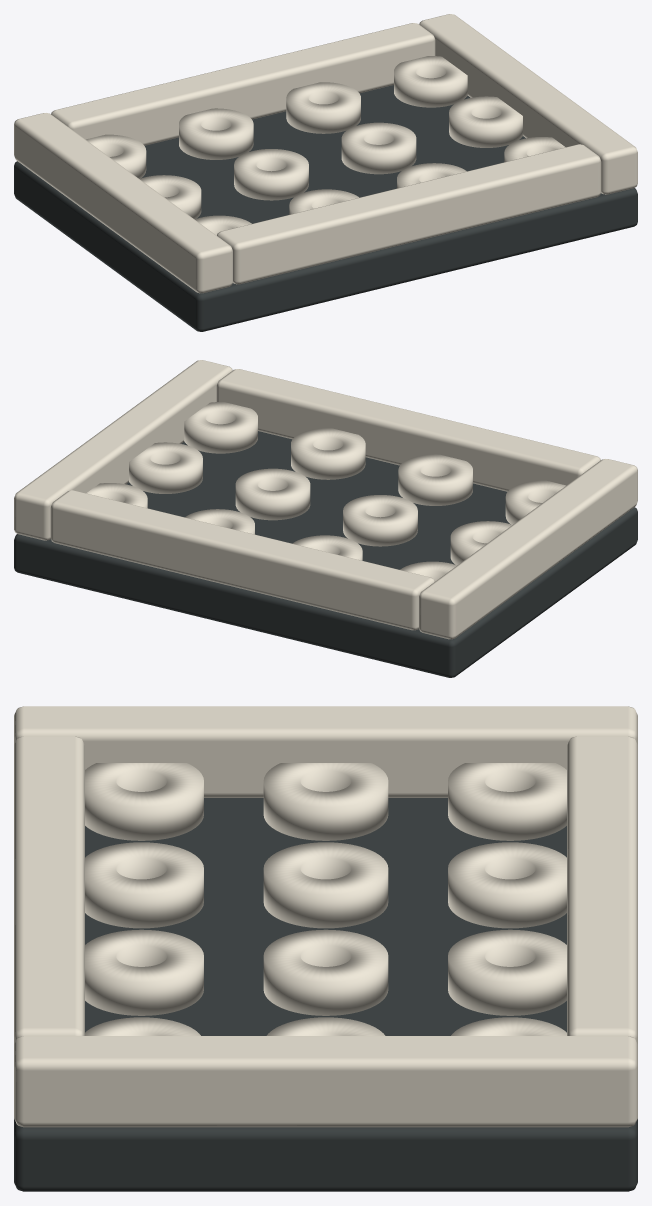
File: coffee-roastery-and-cupping-room-coffee-roastery-and-c-eeffd55a__32222.glb
The picture shows the model from 3 angles, top to bottom: view 1: azimuth 30°, elevation 25°; view 2: azimuth 150°, elevation 25°; view 3: azimuth 270°, elevation 25°; orthographic projection. The views are drawn at different scales.
Visible parts, largest first — view 1: coffee-roastery-and-cupping-room-one-way-valve-tray; view 2: coffee-roastery-and-cupping-room-one-way-valve-tray; view 3: coffee-roastery-and-cupping-room-one-way-valve-tray.
Boxes of the visible parts, x1,y1,x2,y2 form: coffee-roastery-and-cupping-room-one-way-valve-tray: (14,14,637,331); coffee-roastery-and-cupping-room-one-way-valve-tray: (14,360,637,677); coffee-roastery-and-cupping-room-one-way-valve-tray: (14,706,637,1191).
Bounding box in the file's own units: 0.3 × 0.052 × 0.22.
